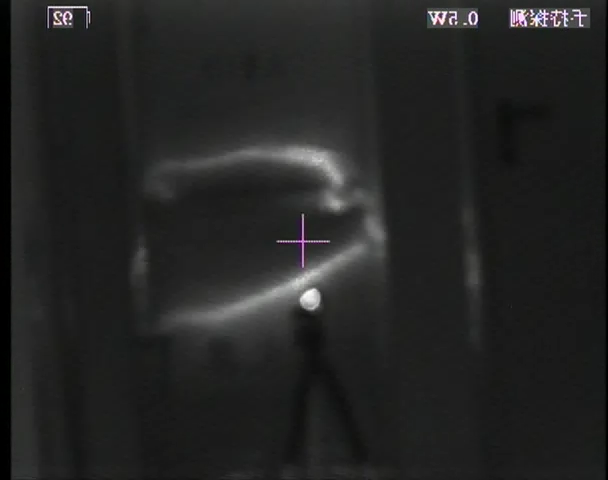my: (296, 285, 324, 313)
